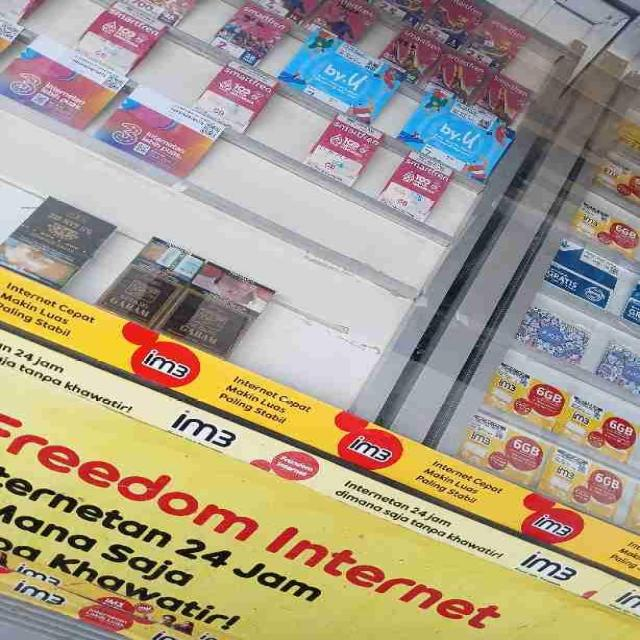Axis: (544, 239, 622, 311), (517, 307, 596, 357)
Indosat-3: (1, 29, 128, 127), (93, 91, 219, 176), (576, 192, 640, 247), (597, 154, 640, 188)
byu: (402, 88, 510, 181), (286, 36, 399, 118)
im3: (456, 414, 548, 494), (544, 448, 638, 526), (490, 356, 572, 427), (578, 384, 638, 446)
smartfren: (383, 2, 540, 65), (76, 0, 179, 76), (195, 64, 286, 139), (306, 114, 383, 190), (382, 150, 450, 219), (211, 2, 286, 52), (474, 69, 528, 121), (308, 0, 370, 40)
